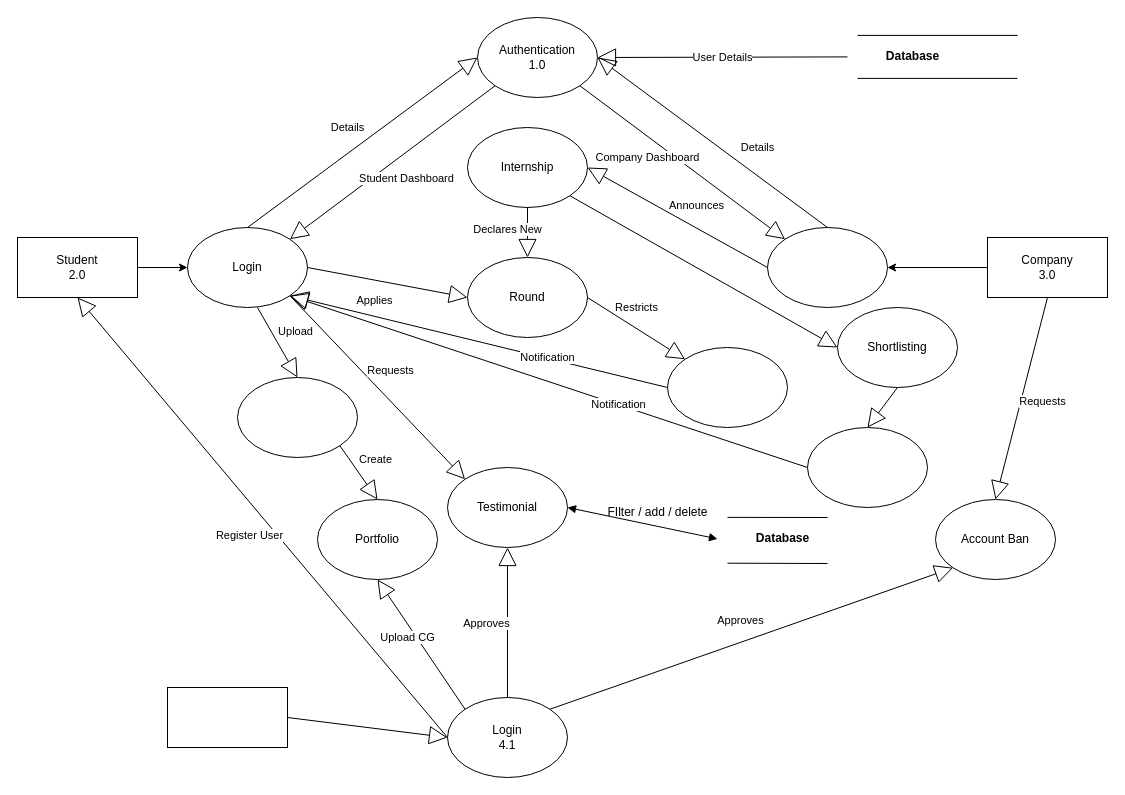
Image size: 1125x795. Some labels were removed from this diagram. Each missing label, with the centre of its shape:
"CG" goes at point 727,387.
"CV" goes at point 297,417.
"Register / Login" goes at point 827,267.
"Result" goes at point 867,467.
"Staff 4.2" goes at point 227,717.
